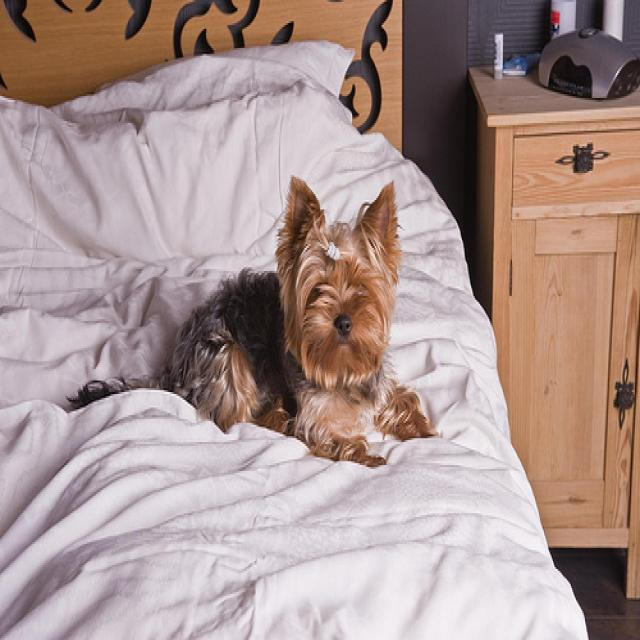dog-yorkshire_terrier: (68, 163, 440, 469)
